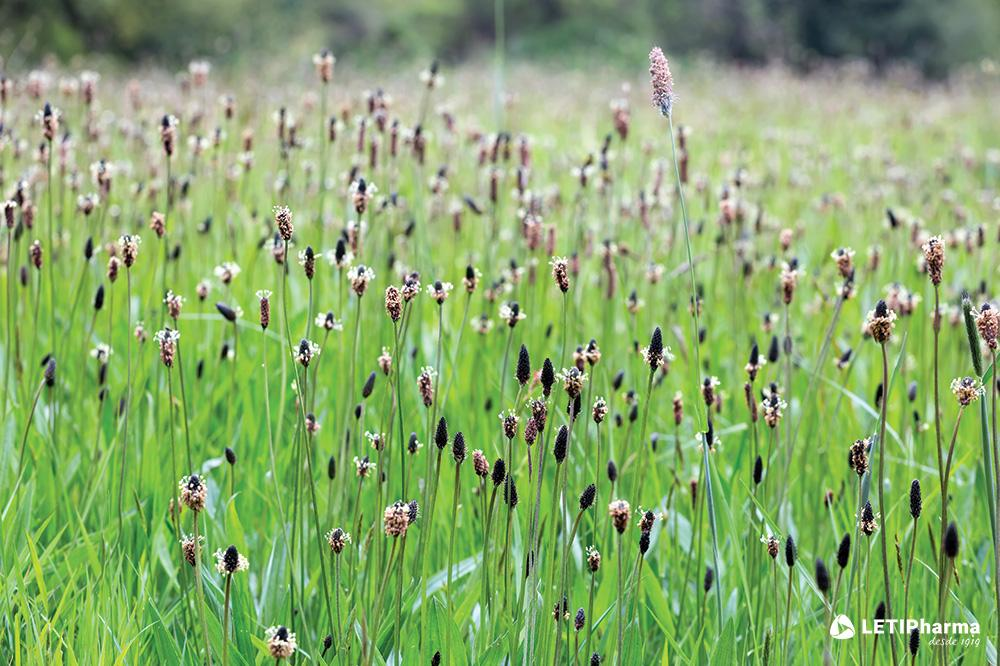buckhorn plantain: (7, 72, 1000, 647)
